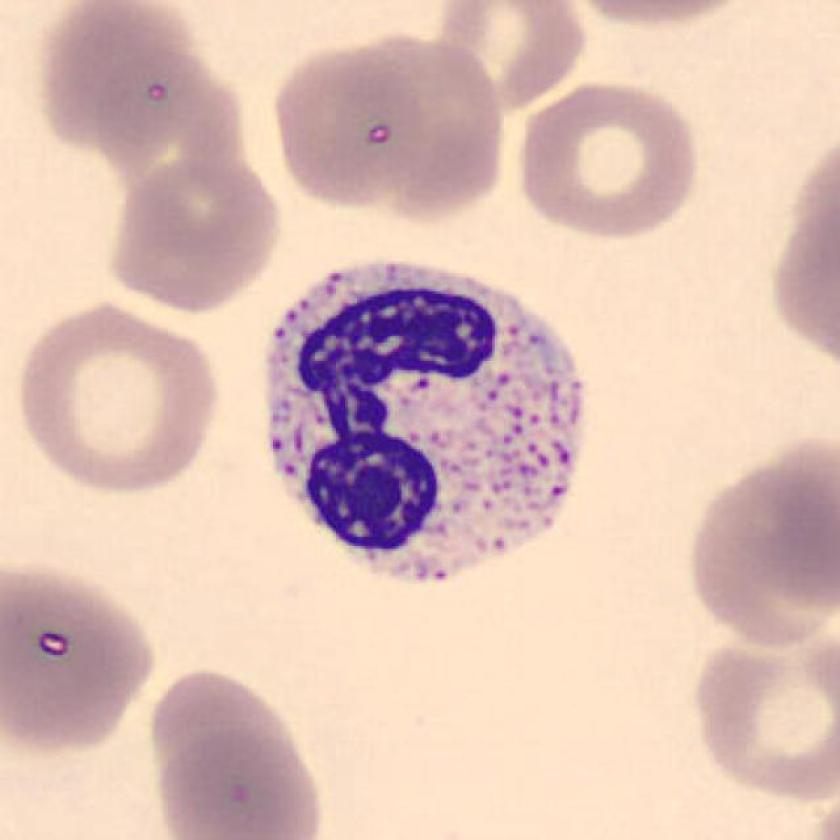neutrophil: (267, 262, 584, 575)
